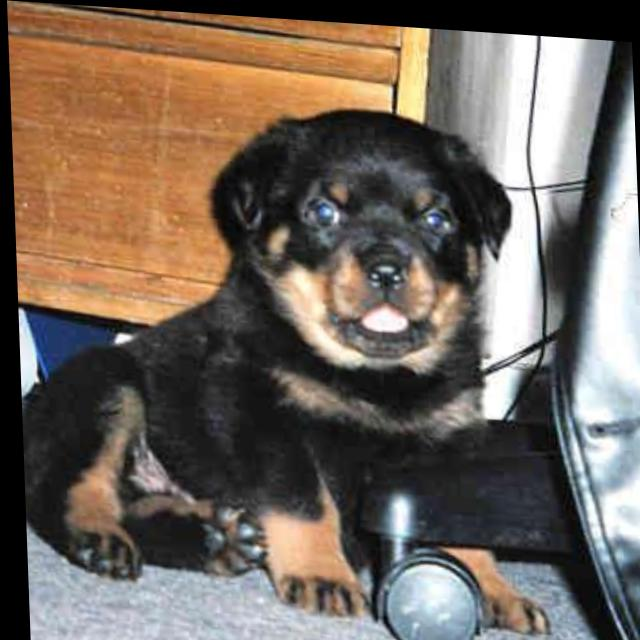rottweiler: (11, 84, 551, 640)
